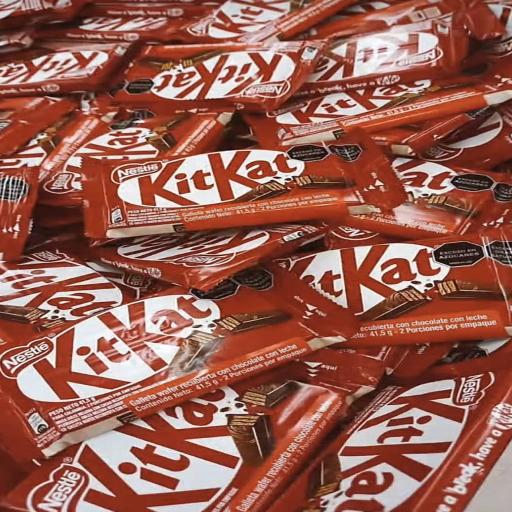kitkat: (96, 129, 428, 249), (302, 361, 512, 511)
